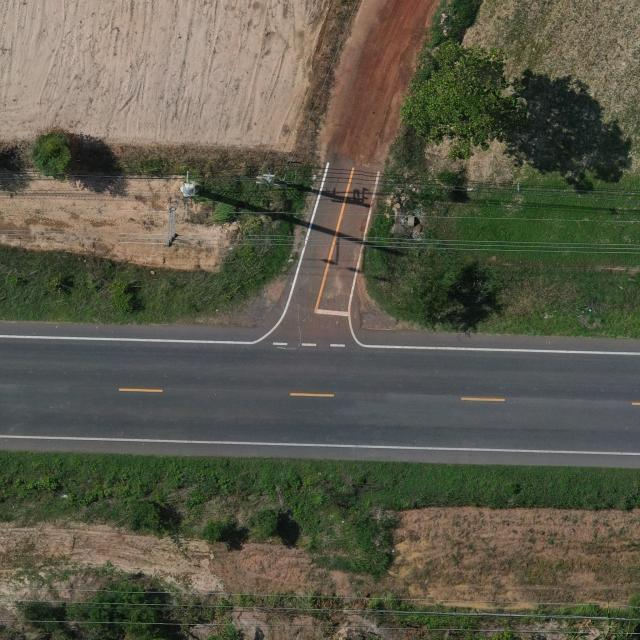Tree: (399, 35, 519, 161), (64, 580, 165, 640), (399, 268, 449, 333), (30, 128, 74, 178), (16, 598, 59, 632), (126, 499, 162, 534), (249, 509, 280, 538), (198, 520, 226, 543)
